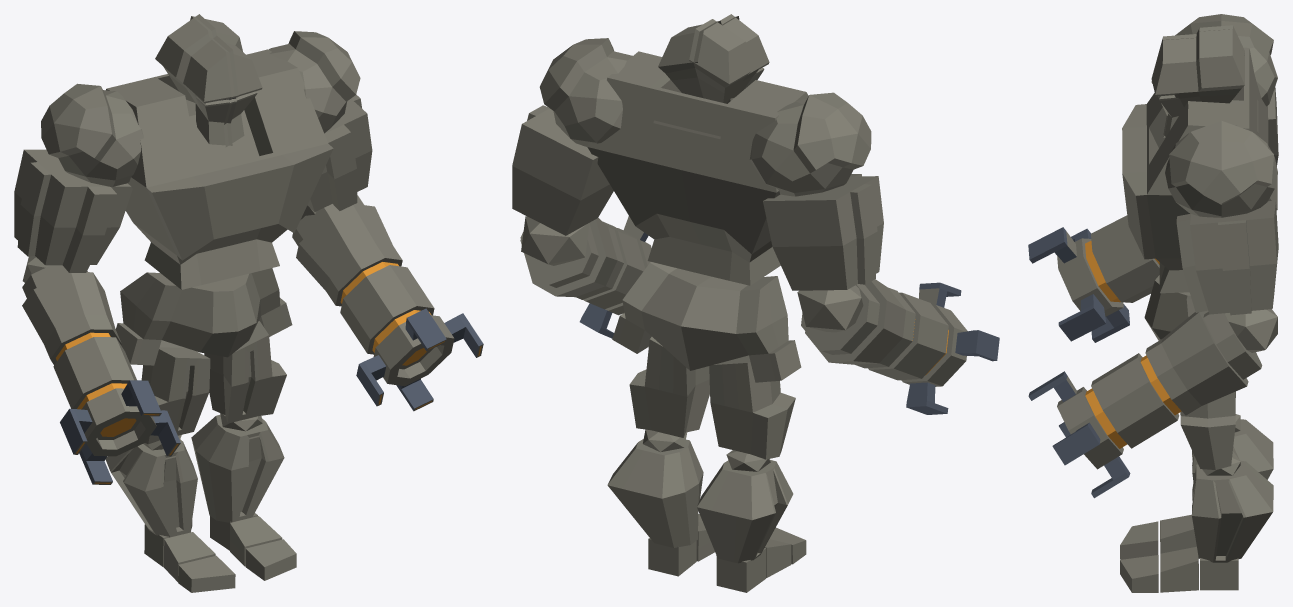
File: borgHeavyInfantry.fbx
3 views of the same model, side by side, from view 1: azimuth 30°, elevation 25°; view 2: azimuth 150°, elevation 25°; view 3: azimuth 270°, elevation 25° (orthographic). The views are drawn at different scales.
Parts seen in each view (by area): view 1: Cube.022, Cube.043, Cube.047, Cube.045, Cube.046, Cube.079, Cube.044, Cube.042, Cube.052, Cube.053, Cube.051; view 2: Cube.043, Cube.022, Cube.047, Cube.046, Cube.079, Cube.045, Cube.044, Cube.042, Cube.049, Cube.051, Cube.050, Cube.053 (+1 smaller); view 3: Cube.022, Cube.043, Cube.046, Cube.047, Cube.045, Cube.042, Cube.044, Cube.053, Cube.052, Cube.079, Cube.049, Cube.051 (+1 smaller).
Boxes of the visible parts, x1,y1,x2,y2 form: Cube.022: (22, 195, 483, 484); Cube.043: (106, 49, 333, 289); Cube.047: (14, 95, 372, 272); Cube.045: (105, 415, 284, 537); Cube.046: (41, 31, 360, 186); Cube.079: (115, 268, 292, 365); Cube.044: (141, 321, 286, 444); Cube.042: (155, 14, 262, 147); Cube.052: (178, 539, 296, 592); Cube.053: (164, 516, 282, 582); Cube.051: (144, 513, 257, 567); Cube.043: (587, 51, 808, 285); Cube.022: (520, 216, 999, 414); Cube.047: (512, 105, 883, 290); Cube.046: (539, 38, 871, 196); Cube.079: (612, 262, 801, 382); Cube.045: (607, 439, 793, 563); Cube.044: (629, 337, 795, 459); Cube.042: (658, 14, 769, 103); Cube.049: (521, 216, 863, 332); Cube.051: (648, 538, 766, 592); Cube.050: (643, 429, 770, 471); Cube.053: (696, 522, 791, 577); Cube.022: (1028, 215, 1262, 498); Cube.043: (1122, 47, 1268, 293); Cube.046: (1165, 14, 1277, 217); Cube.047: (1176, 87, 1278, 315); Cube.045: (1192, 419, 1273, 562); Cube.042: (1151, 25, 1244, 137); Cube.044: (1180, 391, 1235, 469); Cube.053: (1160, 514, 1198, 592); Cube.052: (1120, 521, 1158, 592); Cube.079: (1144, 275, 1208, 340); Cube.049: (1225, 176, 1277, 352); Cube.051: (1200, 558, 1238, 590).
Bounding box in the file's own units: 474 × 588 × 247.
Materials: 3 (2 with a texture image).
